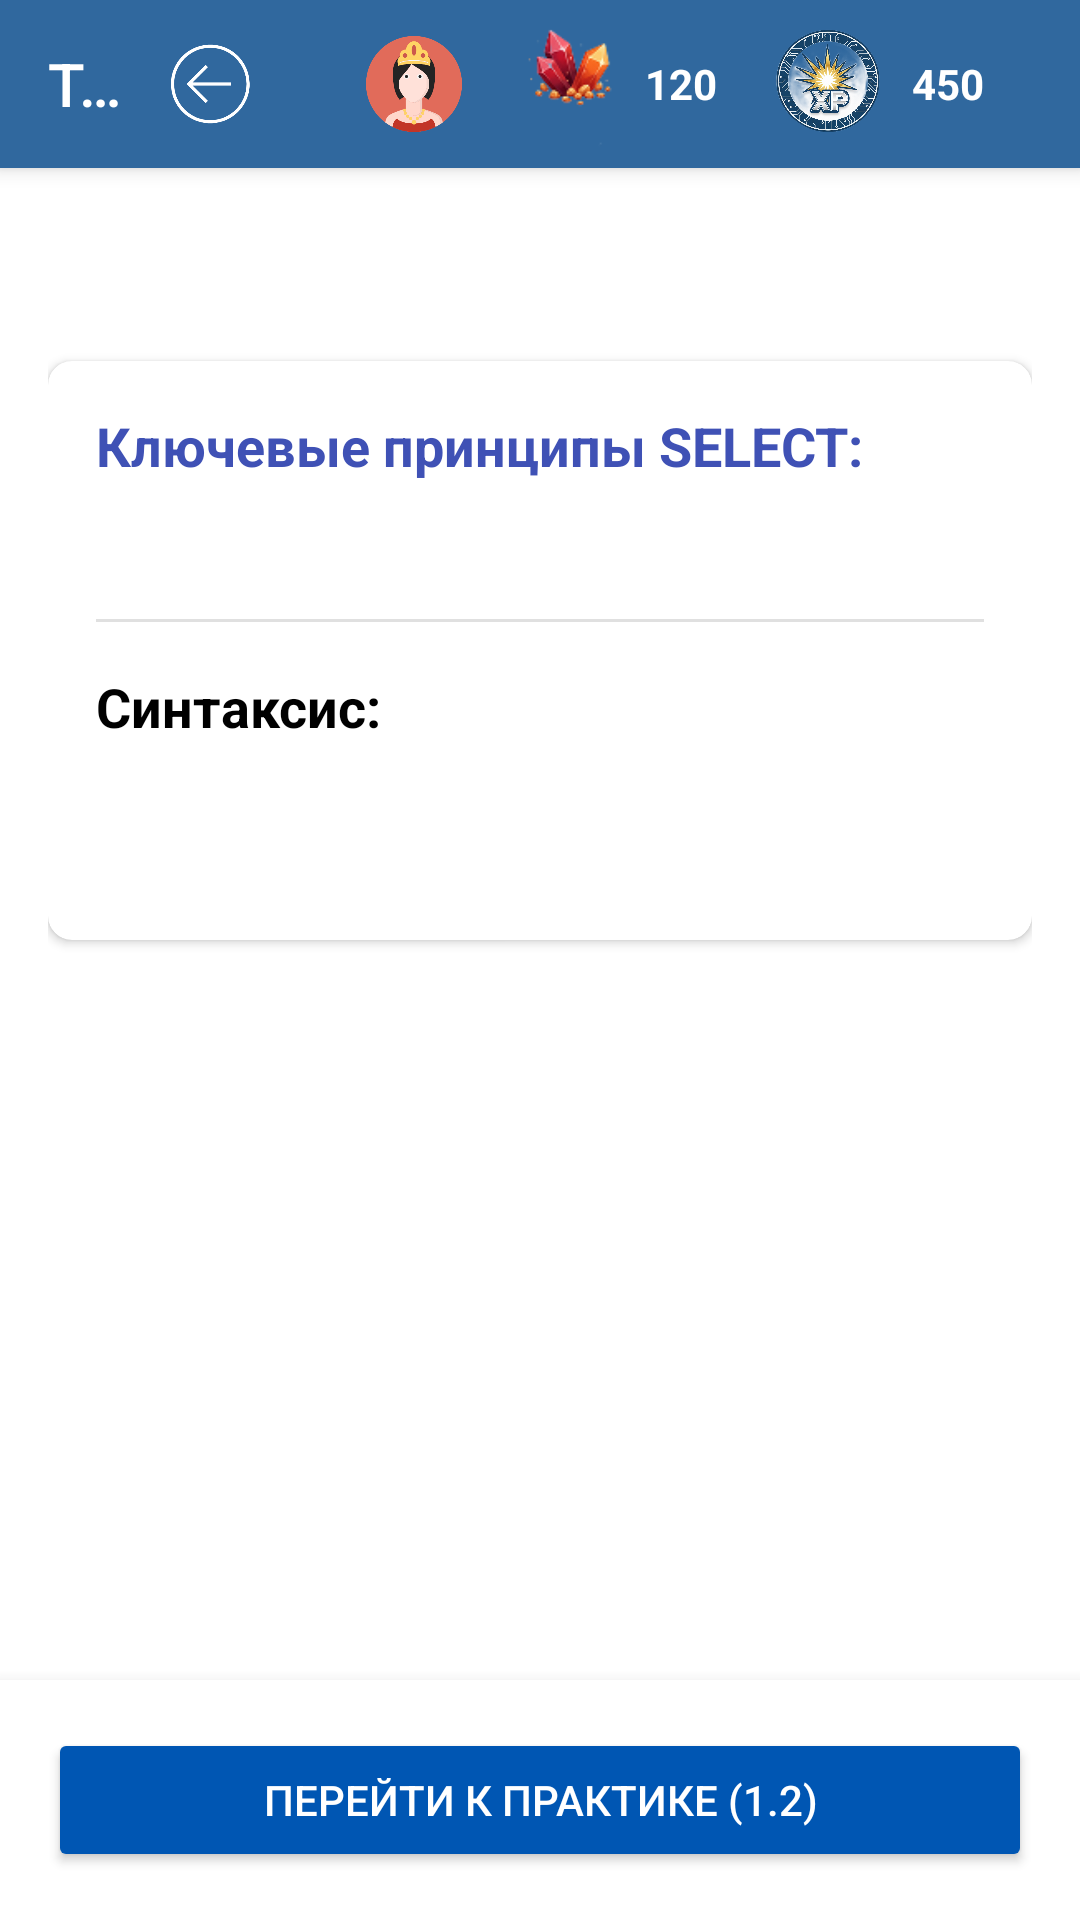

Icon click points for this 1080px×1920px phone screenshot, format point (x, y):
Назад: point (210, 84)
